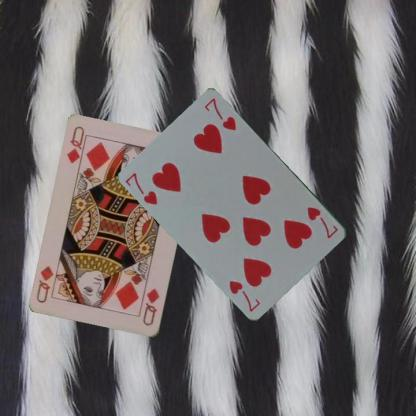7h: (304, 204, 340, 240), (123, 170, 159, 206)
Qd: (65, 124, 88, 170), (140, 286, 162, 328)
